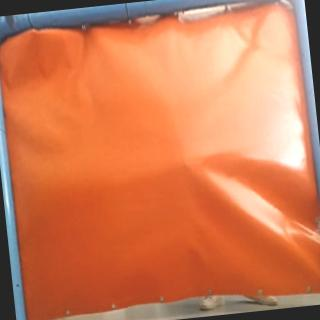Hit-hRxx: (180, 157, 192, 170)
